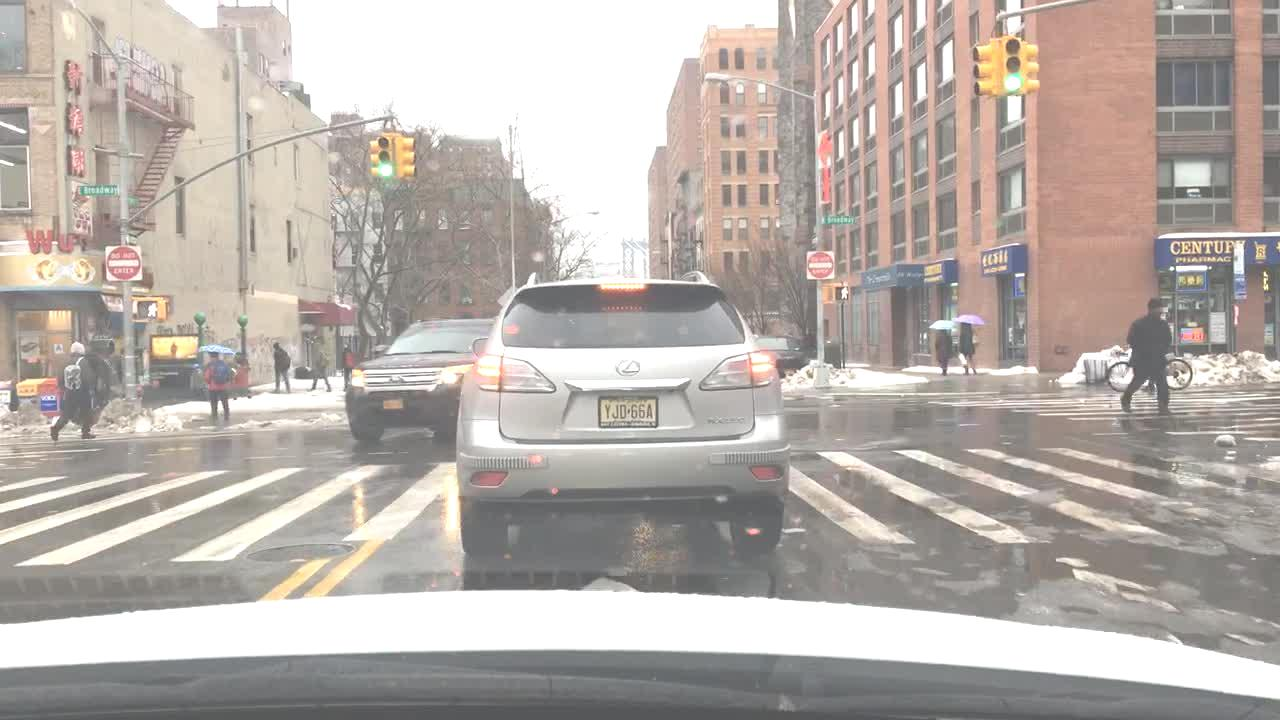lexus: (611, 355, 644, 380)
